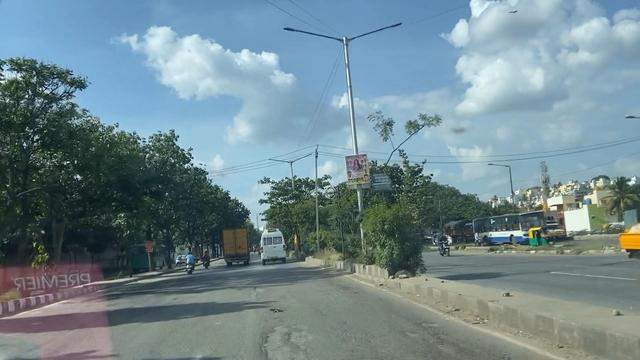HMV: (220, 230, 249, 264), (261, 228, 290, 262)
LMV: (185, 251, 195, 275), (200, 250, 212, 266)
RoadDamages: (253, 298, 318, 360), (400, 290, 452, 360)
